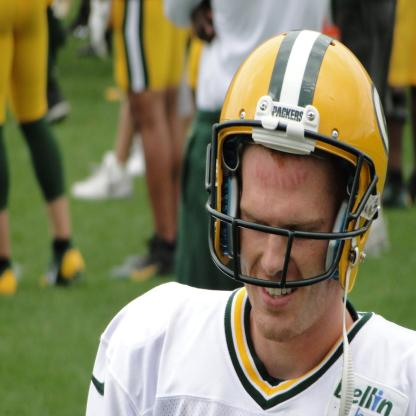Helmet: (204, 30, 391, 416)
